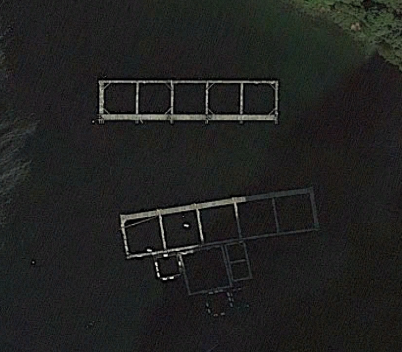square: (174, 242, 235, 299), (201, 286, 237, 321), (150, 248, 186, 282)
